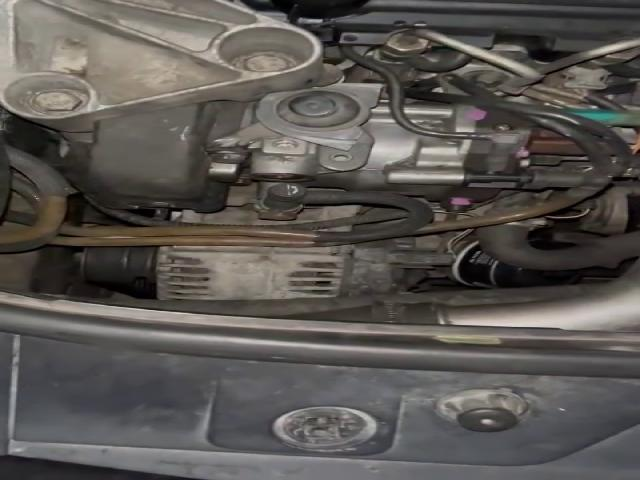alternator: (158, 238, 454, 300)
high_pressure_pump: (250, 98, 581, 211)
